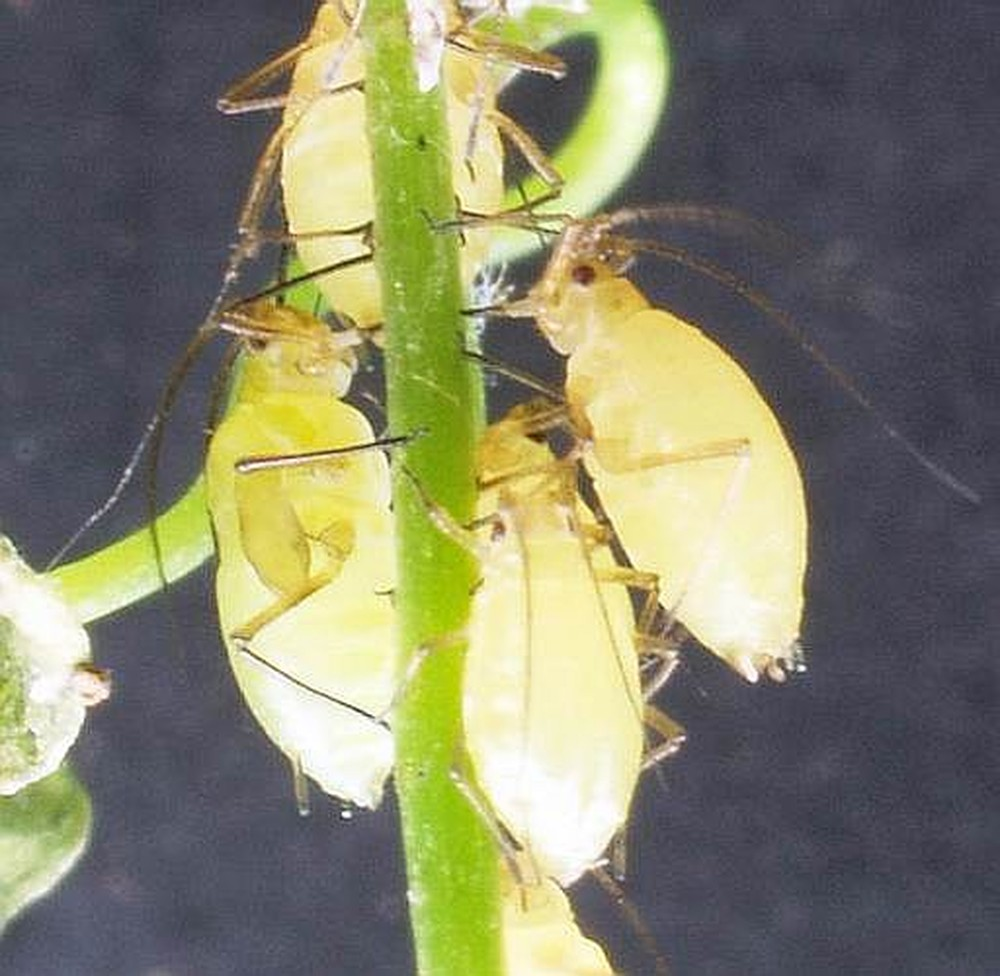Pulgon: (503, 222, 826, 752), (414, 388, 687, 925), (183, 295, 439, 851), (207, 4, 442, 372)
